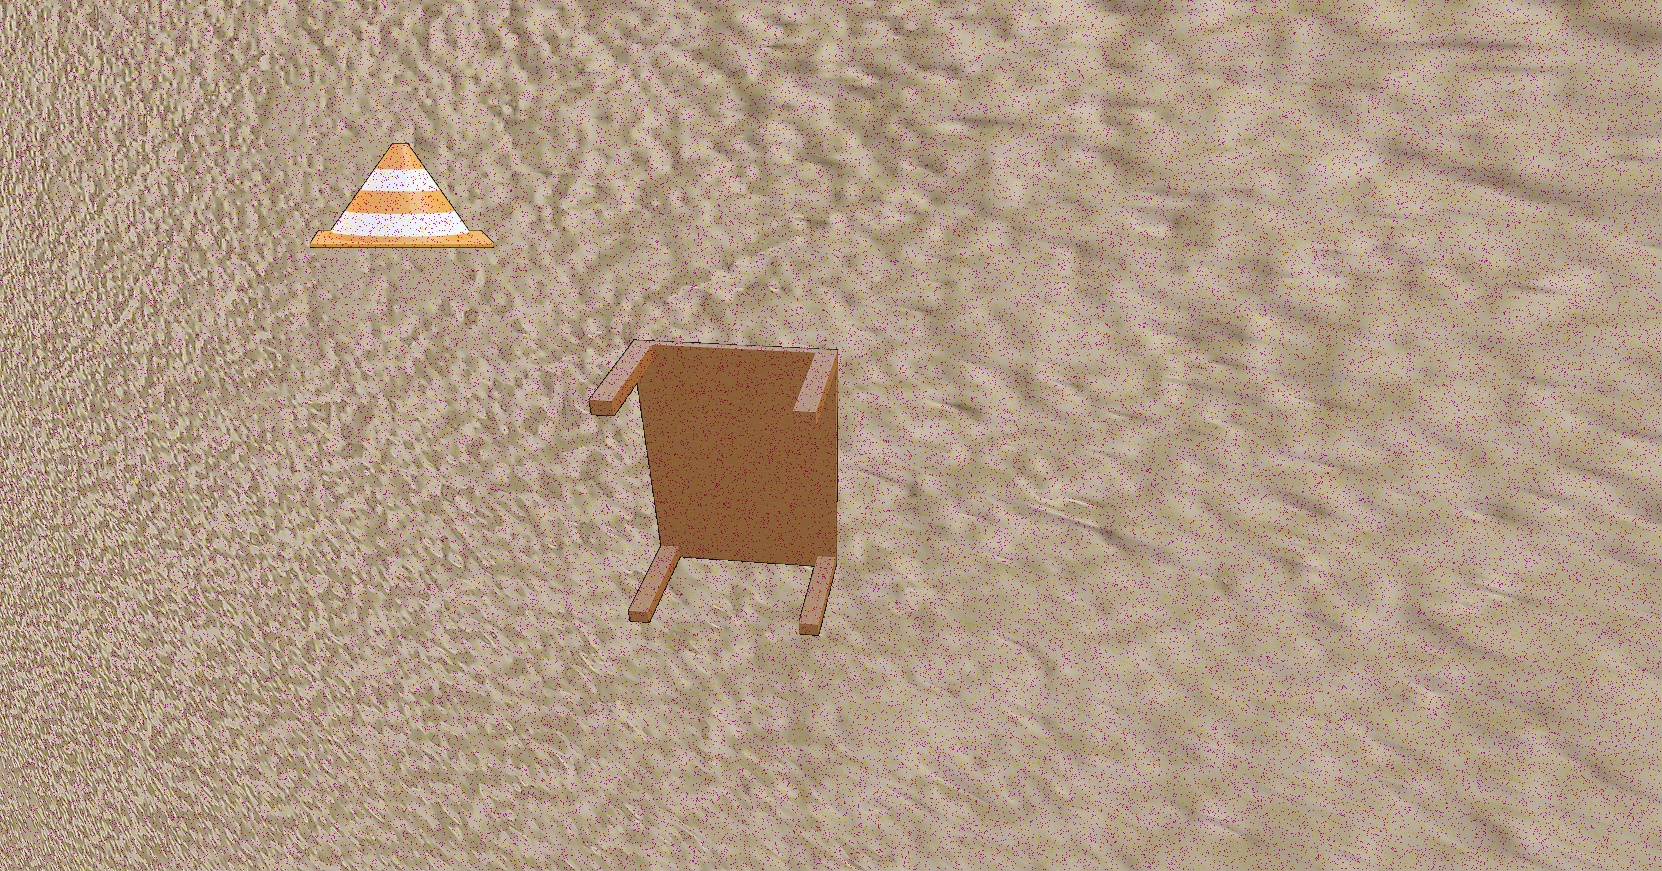cono: (309, 143, 495, 249)
mesa: (588, 339, 839, 636)
